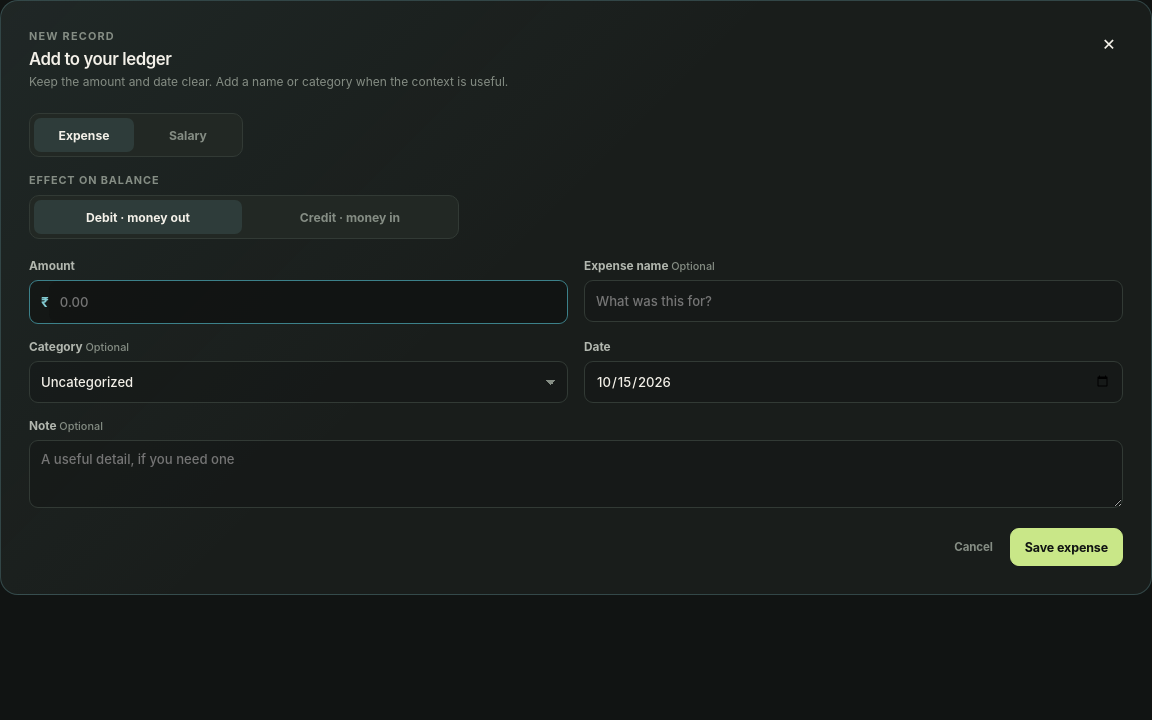
Test: TransactionForm › shows a service error without losing entered values
The width and height of the screenshot is (1152, 720).
Type "24" into the field labelled "Amount". click: (308, 302)
box: [49,281,567,323]
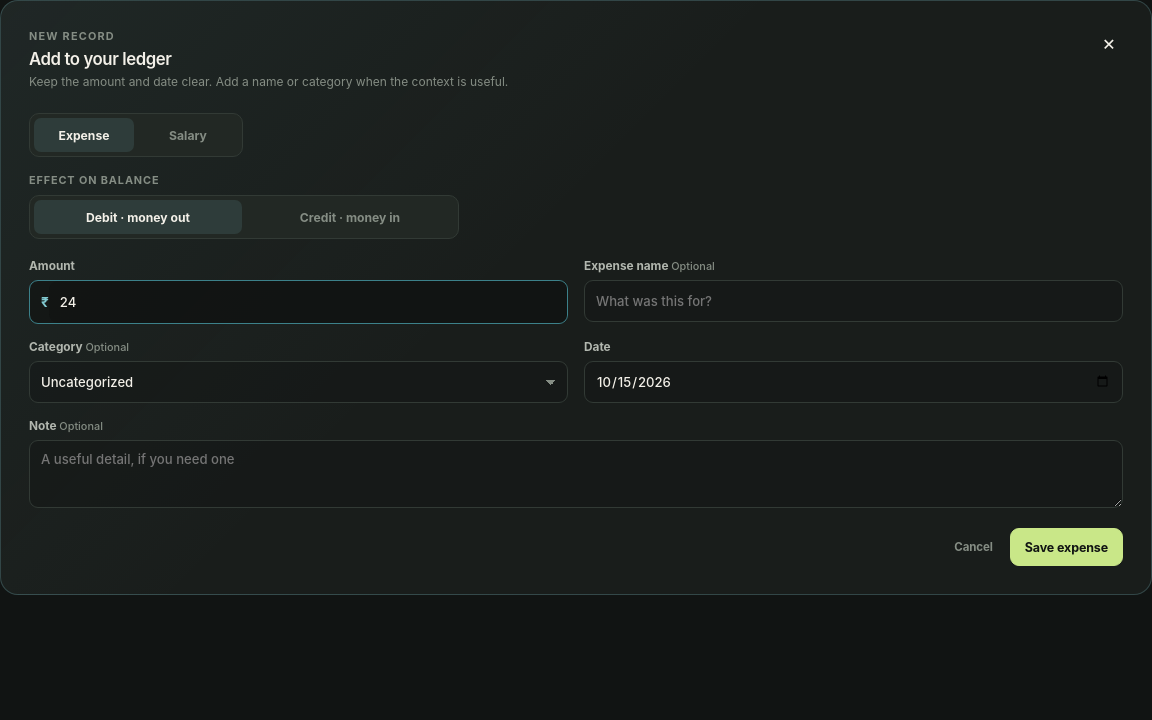
Type "Coffee" into the field labelled "Expense name". click: (854, 301)
box: [584,280,1123,322]
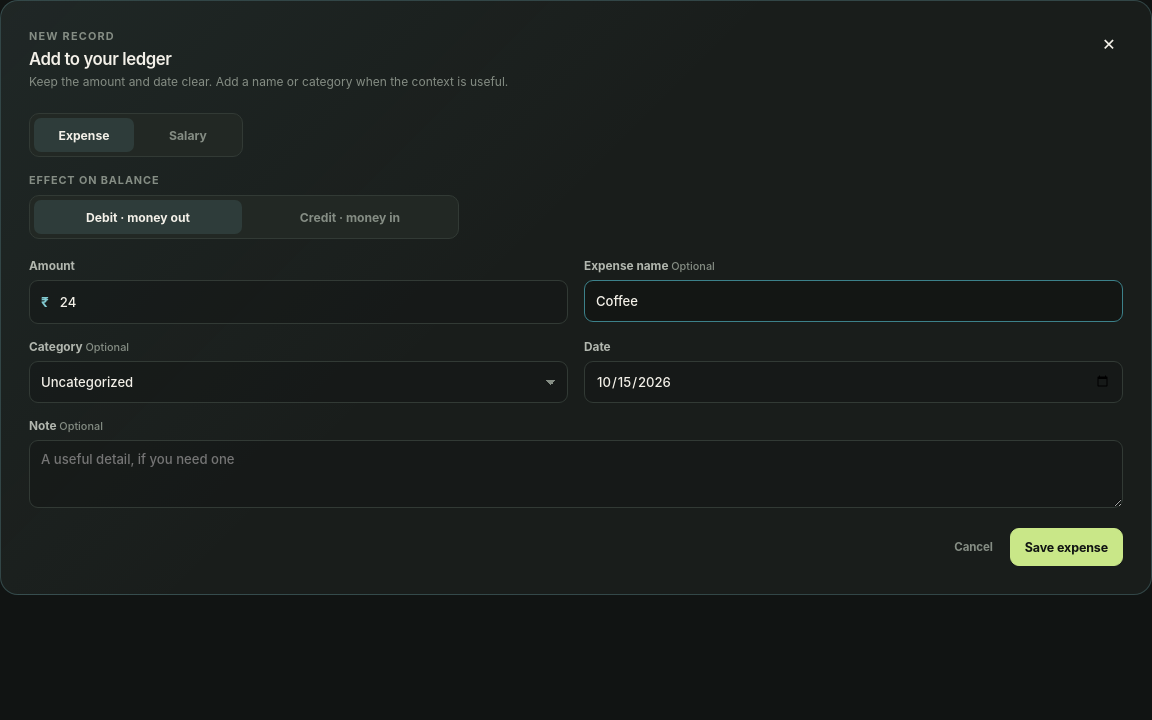
Select "Create new category…" in the dropdown labelled "Category". click: (298, 382)
box: [29,361,568,403]
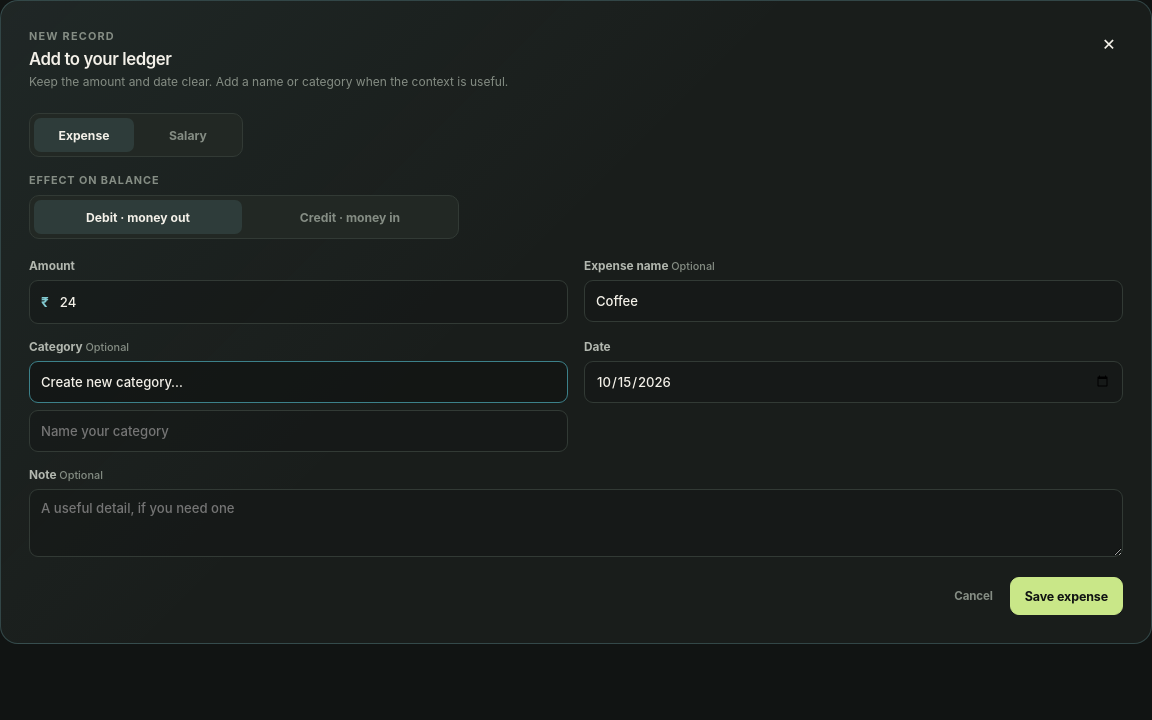
Type "Food" into the field named "New category". click: (298, 431)
box: [29,410,568,452]
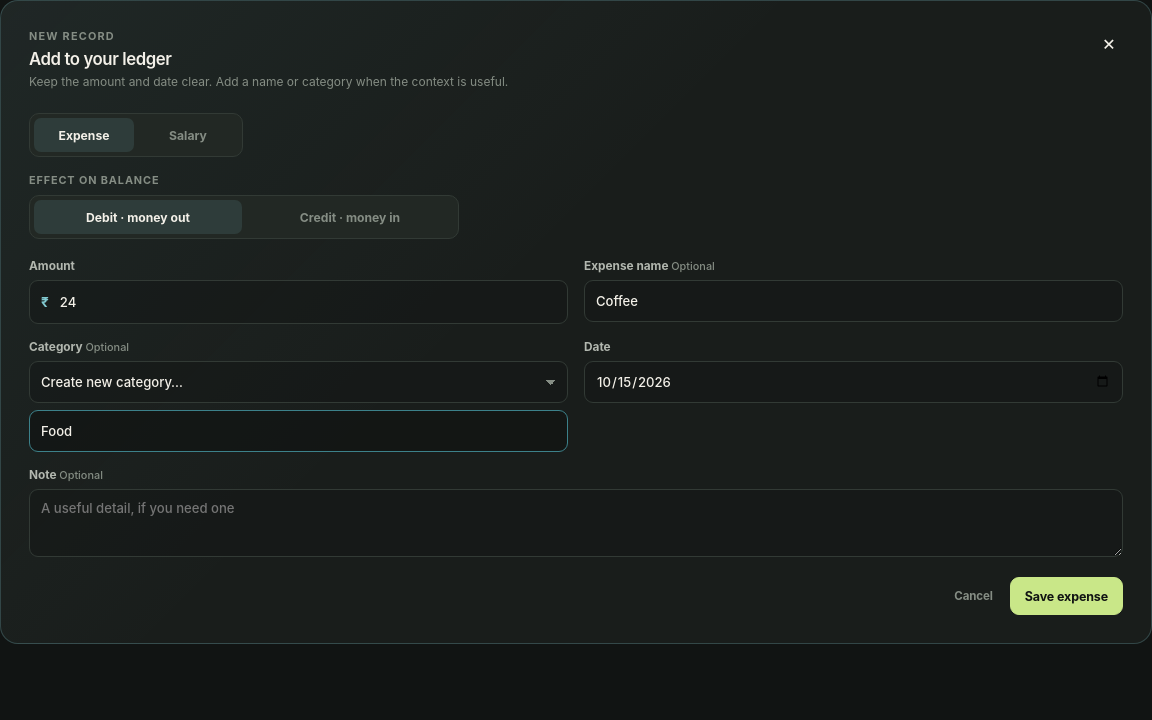
Click the button "Save expense". click: click(1066, 596)
box: [1010,577,1123,615]
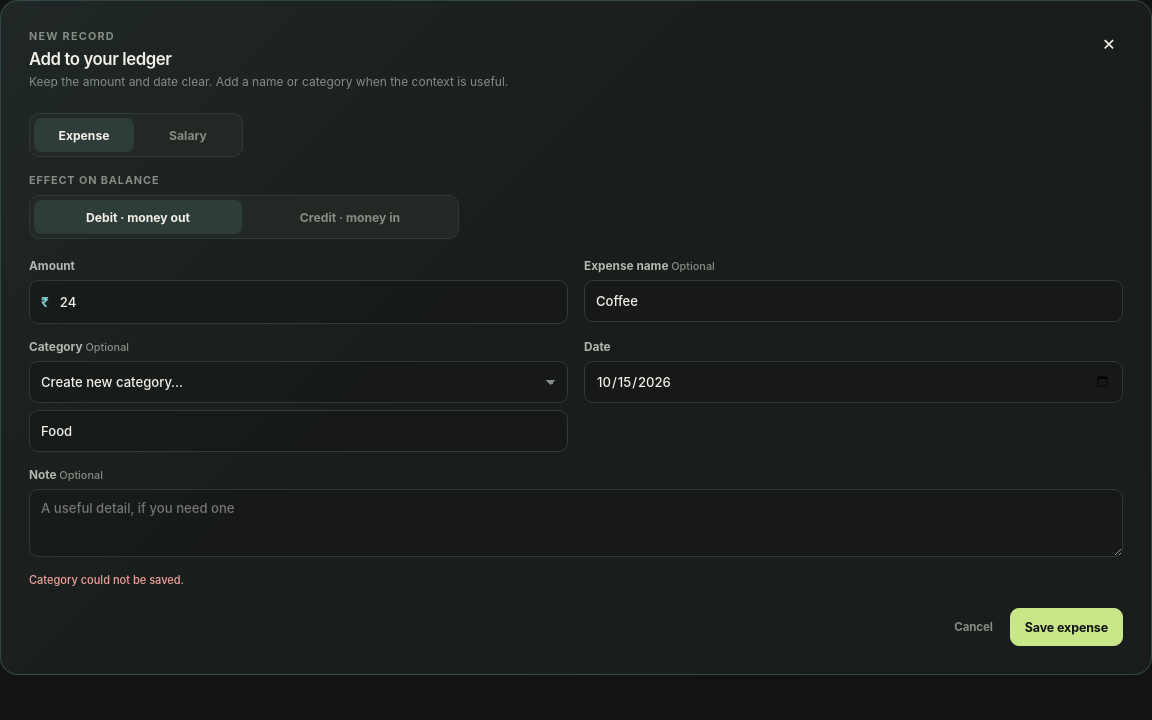
Check: the message reads "Category could not be saved.", box [29,573,184,587]
